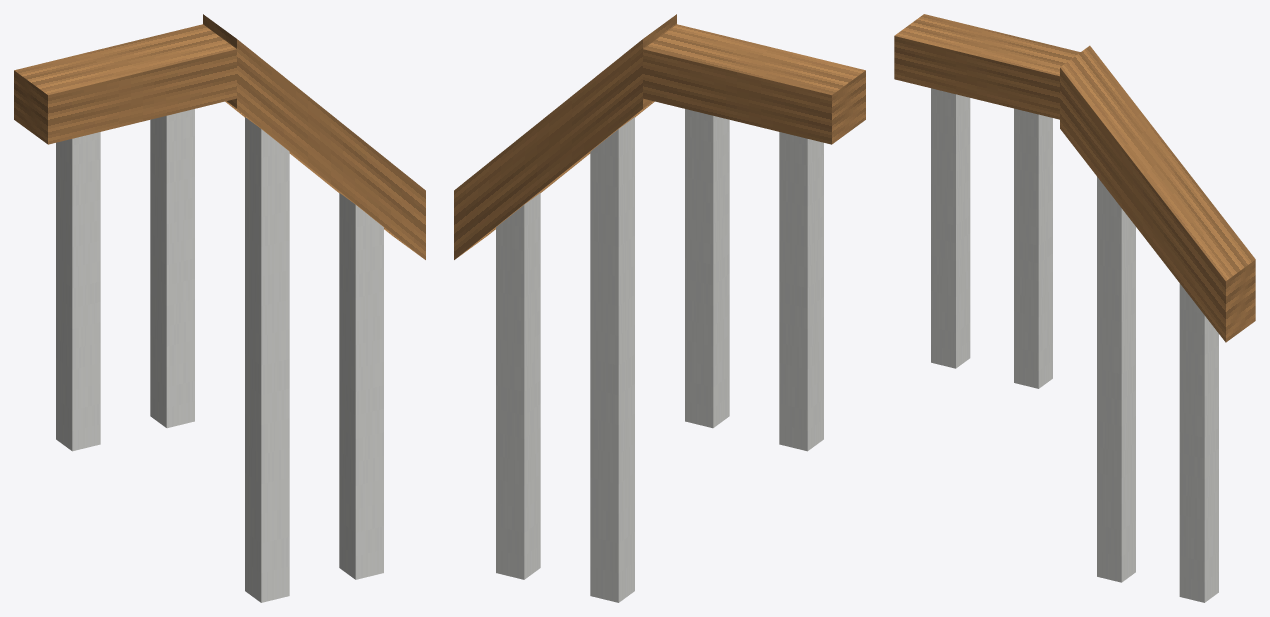
The model's file is top_neg.obj.
3 renders of one model, left to right at view 1: azimuth 30°, elevation 25°; view 2: azimuth 150°, elevation 25°; view 3: azimuth 330°, elevation 25°, orthographic. The views are drawn at different scales.
Parts seen in each view (by area): view 1: railing_baluster_oak_top_neg; view 2: railing_baluster_oak_top_neg; view 3: railing_baluster_oak_top_neg.
Boxes of the visible parts, x1,y1,x2,y2 form: railing_baluster_oak_top_neg: (14,14,425,602); railing_baluster_oak_top_neg: (454,14,865,602); railing_baluster_oak_top_neg: (894,14,1255,602).
Size of the model in its own units: 1 by 1.46 by 0.1562.
